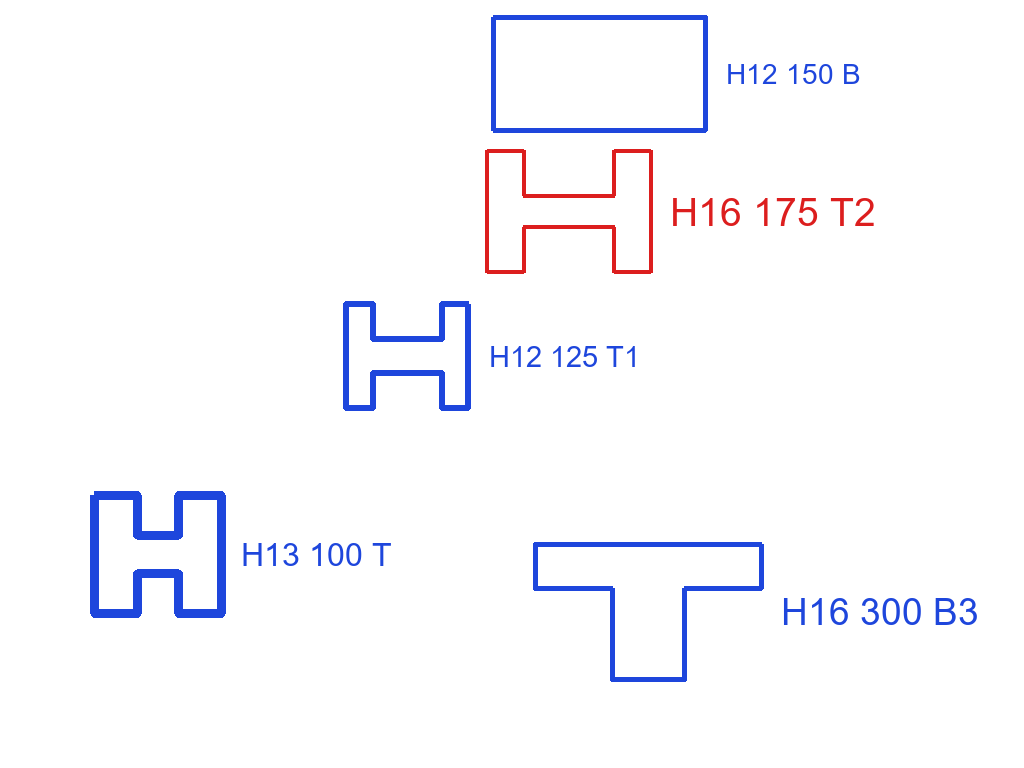shape: (531, 540, 766, 684), (489, 13, 710, 135), (483, 147, 654, 277), (88, 489, 228, 620), (341, 299, 474, 413)
text: (668, 196, 878, 228), (779, 596, 981, 627), (239, 541, 394, 568), (487, 344, 642, 369), (724, 62, 863, 86)
